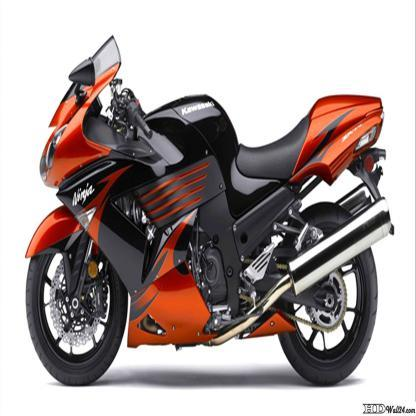Motorcycle: (23, 53, 396, 390)
